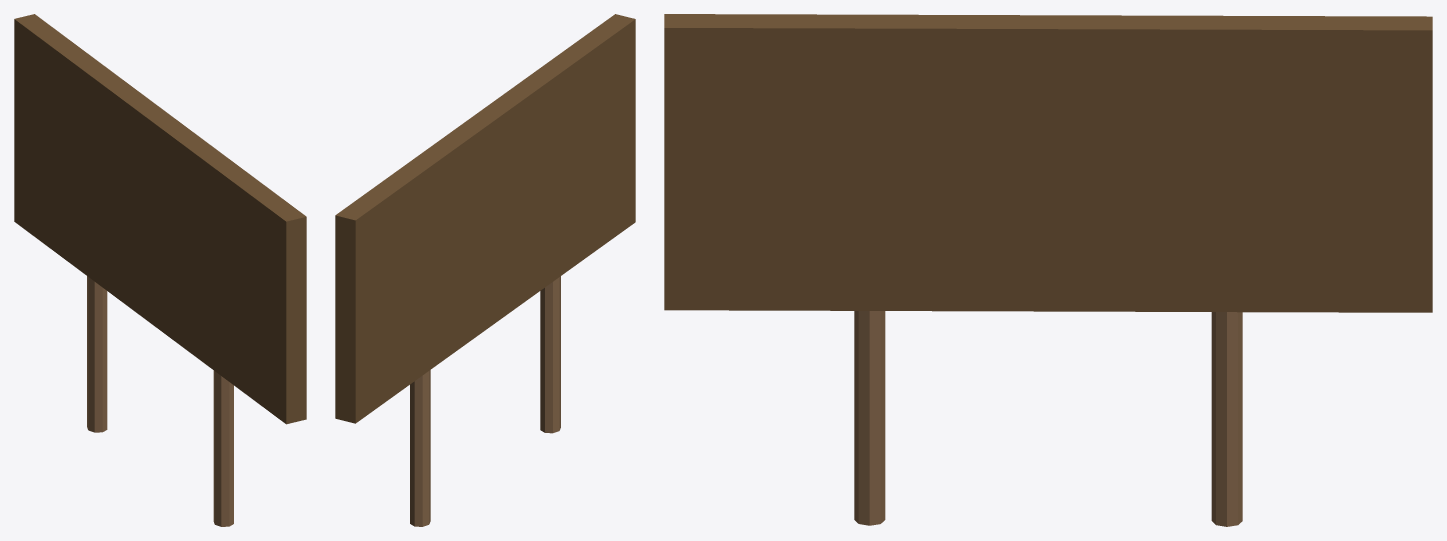
Rendered from cartel_corre_lev3.glb.
3 views of the same model, side by side, from view 1: azimuth 30°, elevation 25°; view 2: azimuth 150°, elevation 25°; view 3: azimuth 270°, elevation 25° (orthographic). The views are drawn at different scales.
Visible parts, largest first — view 1: cartel_corre_lev3; view 2: cartel_corre_lev3; view 3: cartel_corre_lev3.
Part boxes in pixels (box(x1,y1,x2,y2)): cartel_corre_lev3: box(14, 14, 306, 526); cartel_corre_lev3: box(335, 14, 635, 526); cartel_corre_lev3: box(664, 14, 1432, 526).
Bounding box in the file's own units: 0.4754 × 6.74 × 9.42.
